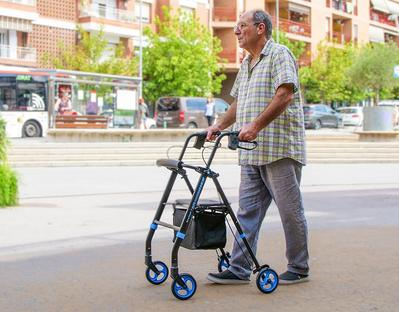walking_frame: (145, 10, 310, 300)
